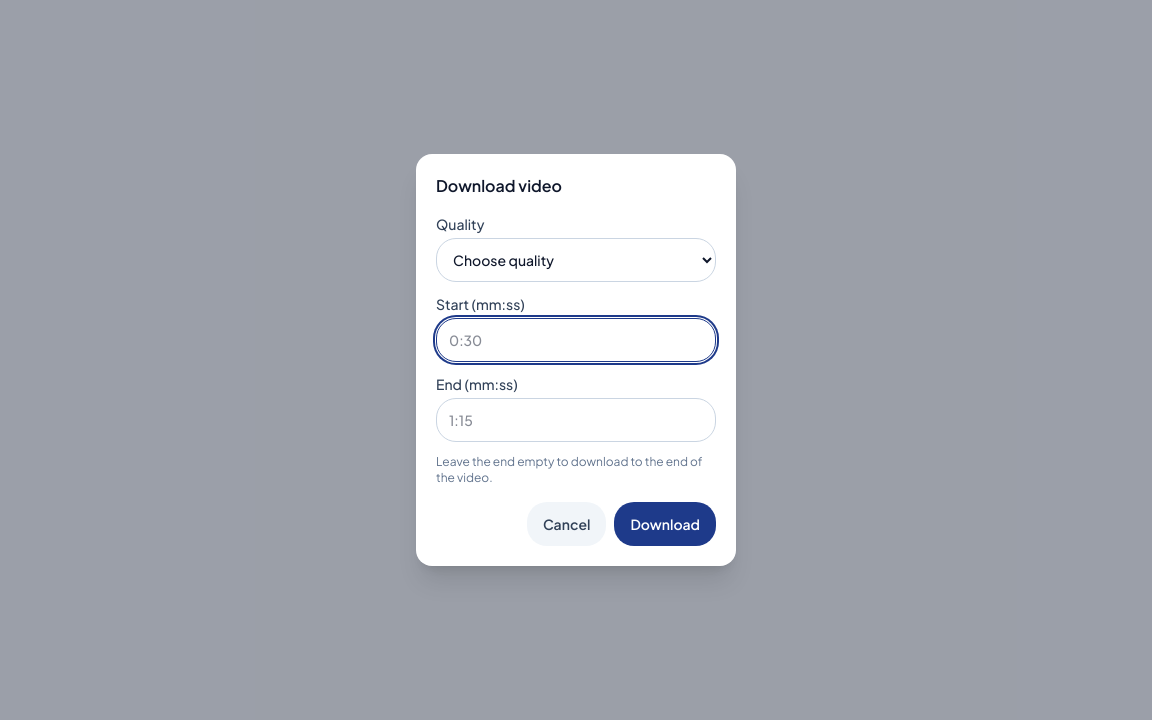
it: VideoDownloadDialog › refuses an end without a start
Type "1:00" into the field labelled "End (mm:ss)". click: coordinates (576, 420)
box: [436,398,716,442]
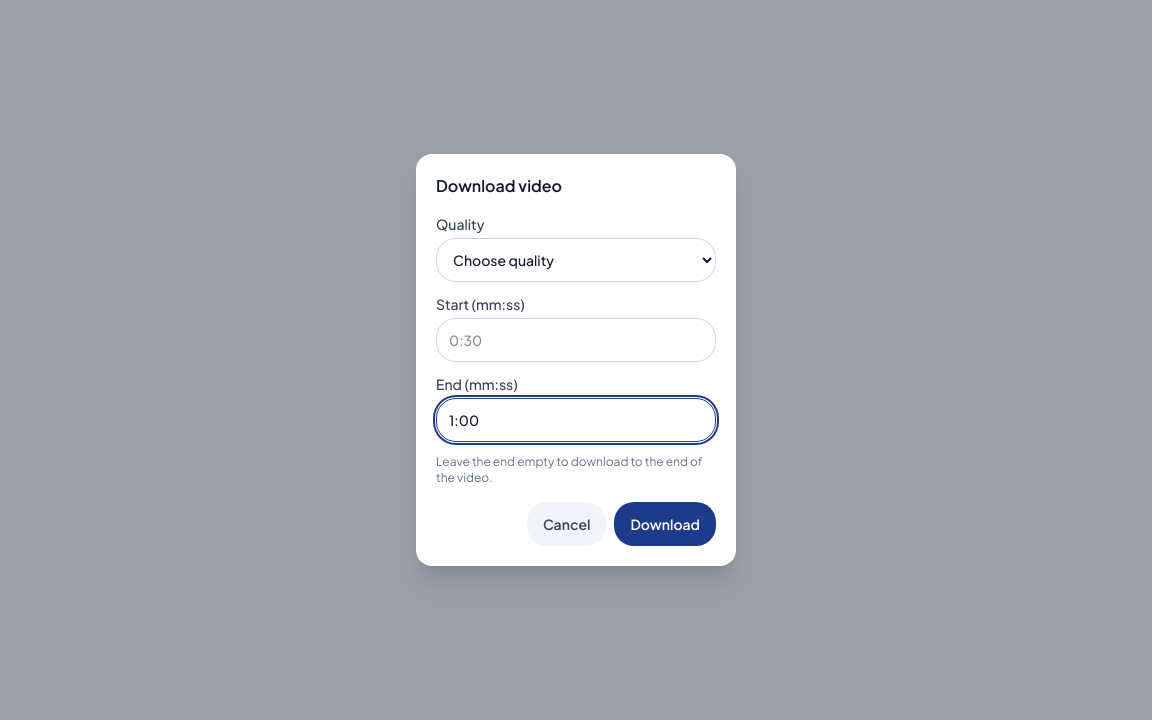
Click the button "Download". click: coordinates (665, 524)
box: [614,502,716,546]
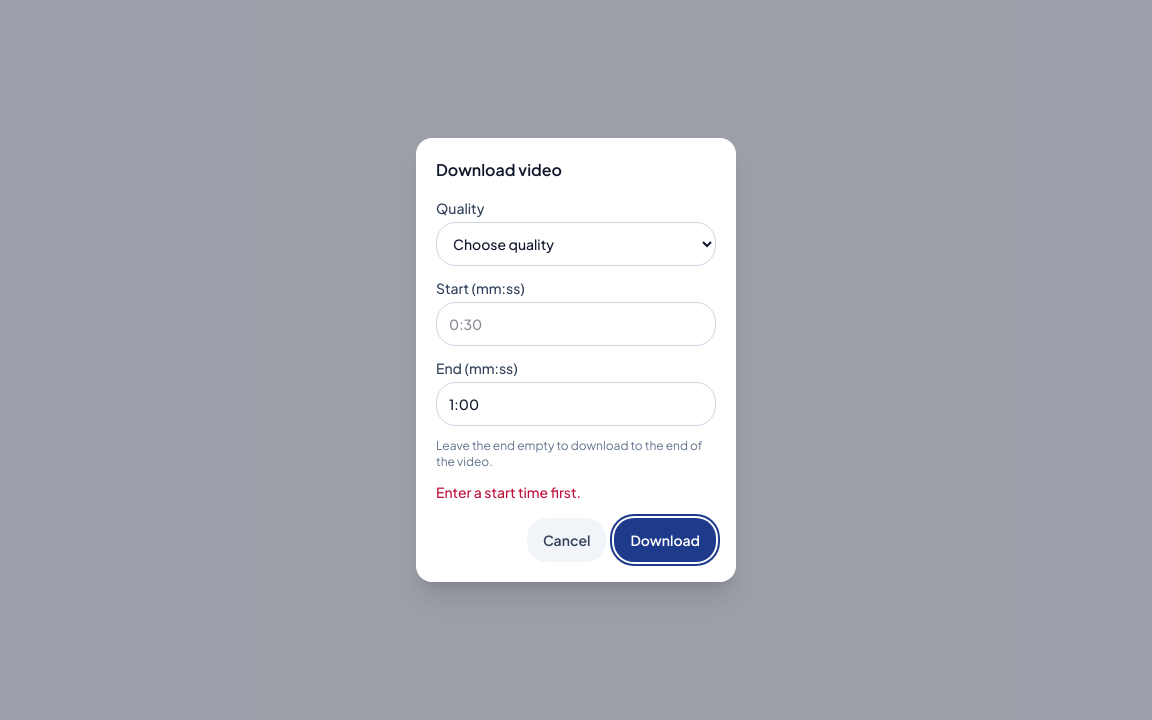
Expected: the message reads "Enter a start time first.", [436,483,581,501]
